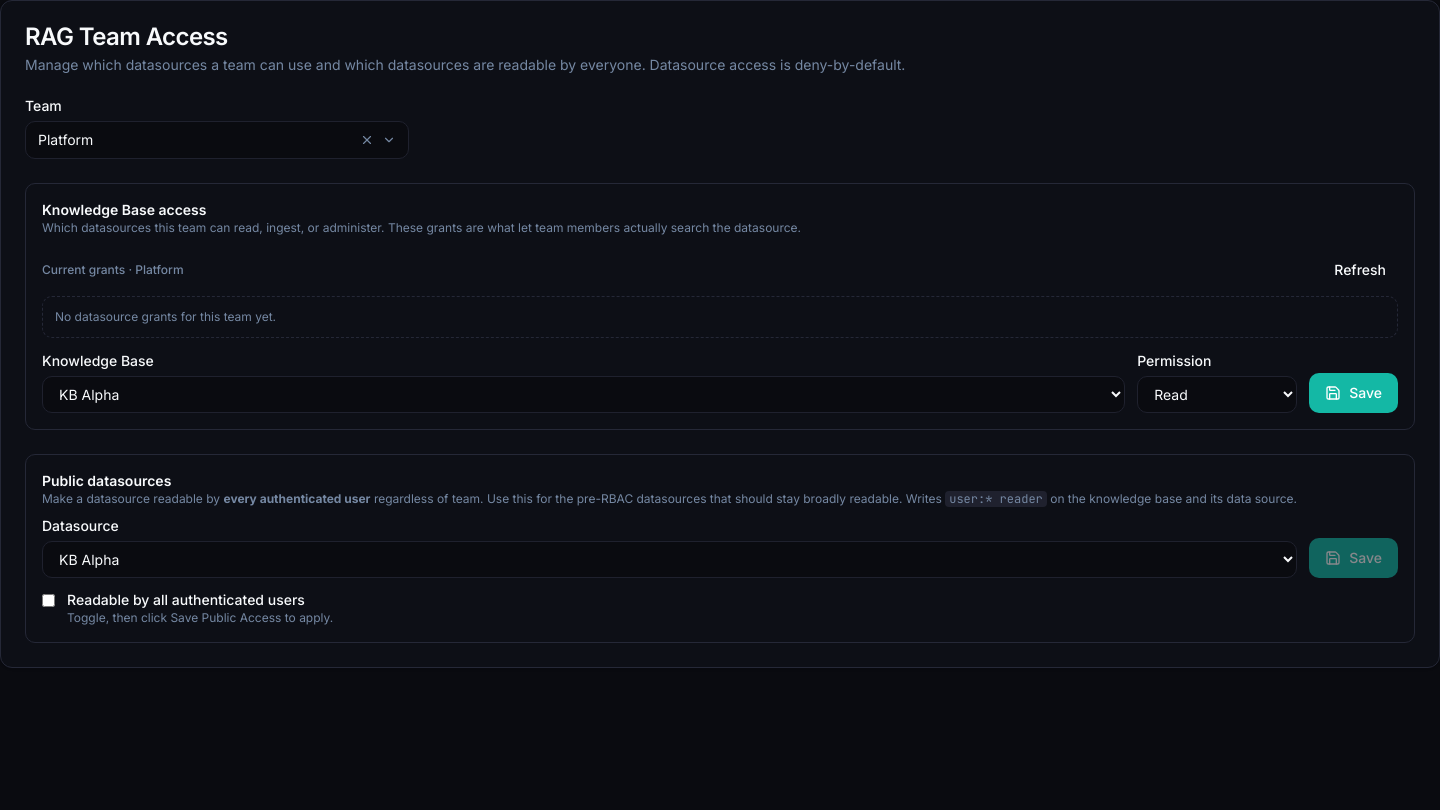
Test case: grants a selected knowledge base to the selected team
Expected: the text "RAG Team Access" is shown, [25, 22, 228, 51]
Select "KB Alpha" in the dropdown labelled "Knowledge Base" at (584, 394), box [42, 376, 1125, 413]
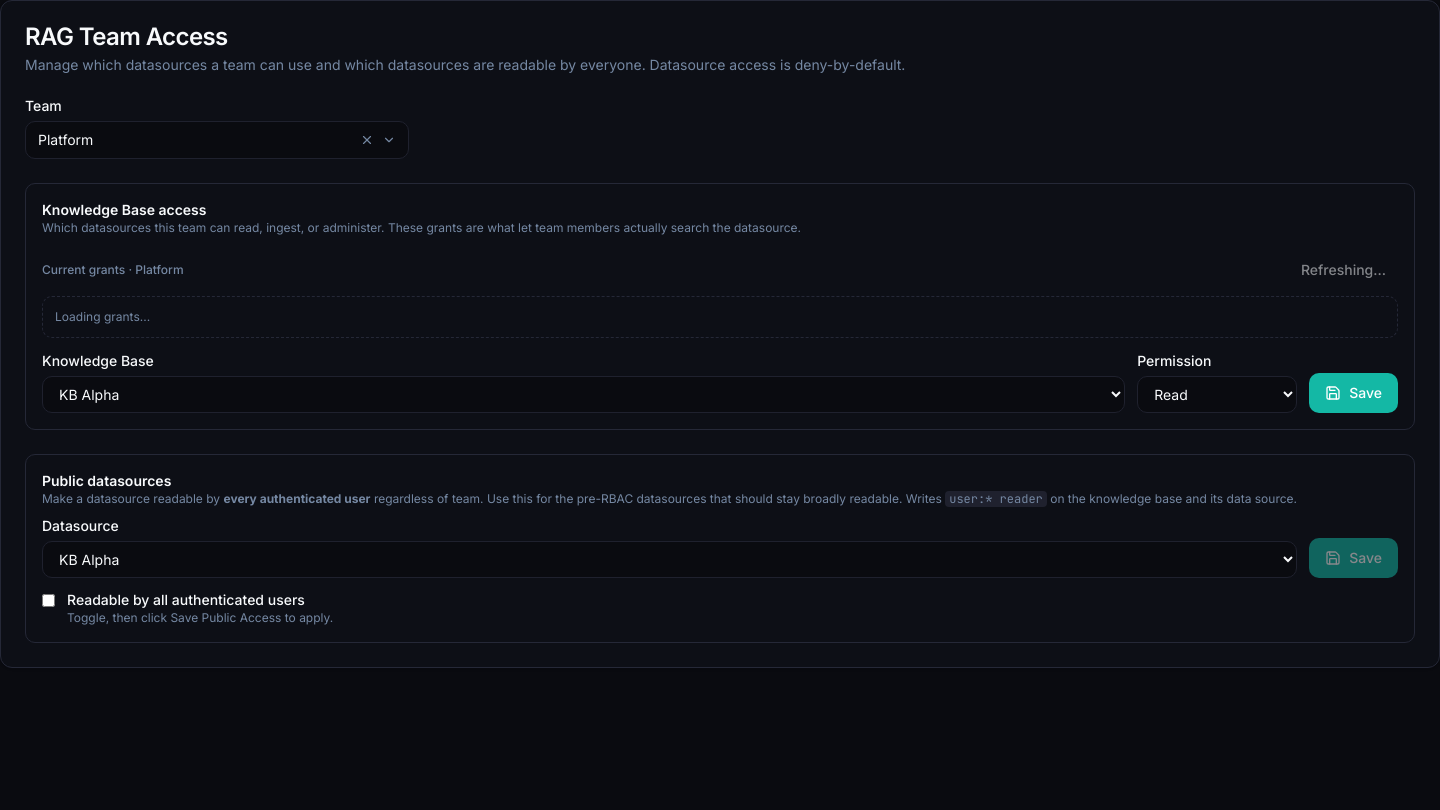
Select "Admin" in the dropdown labelled "Permission" at (1217, 394), box [1137, 376, 1297, 413]
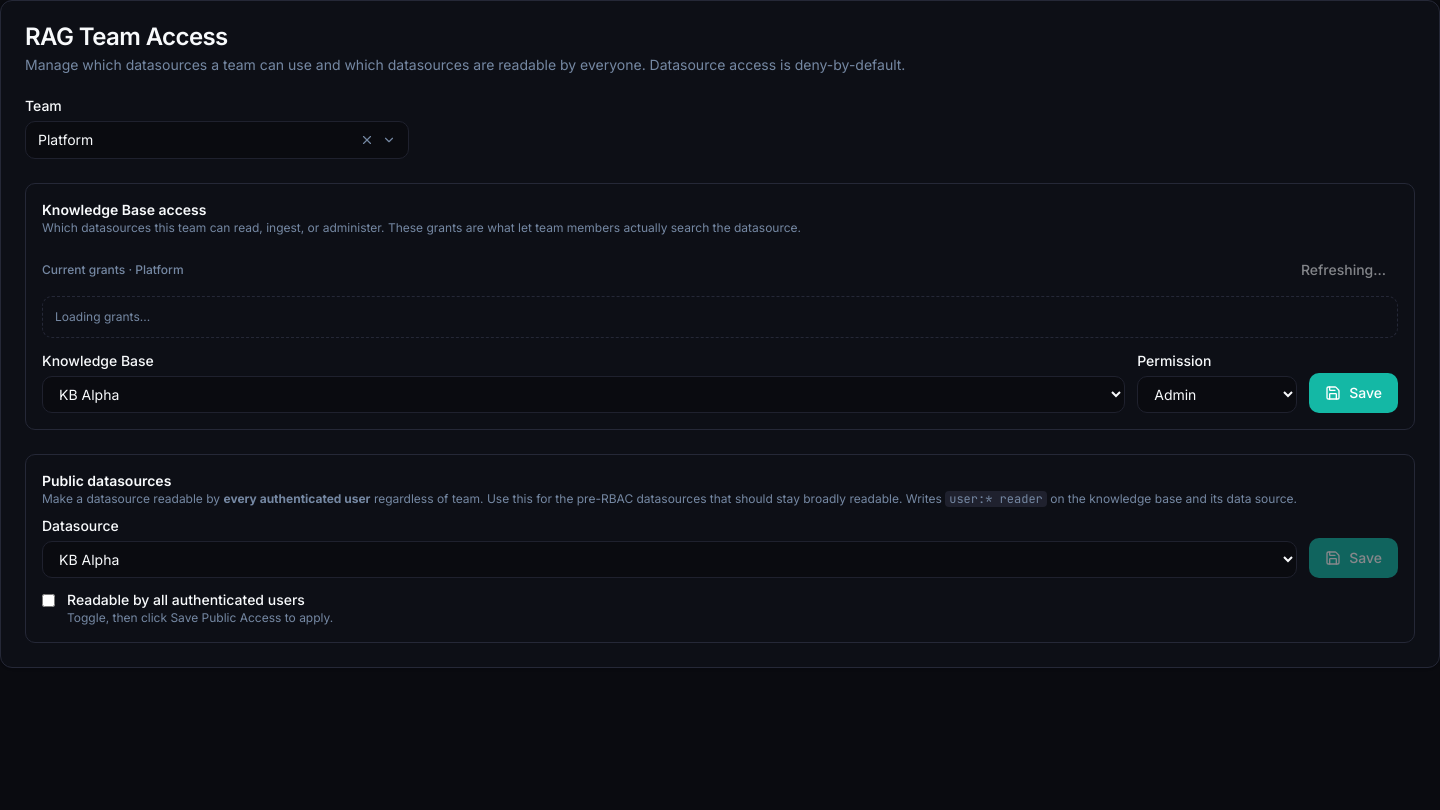
Click the button with aria-label "Grant KB Access" at (1354, 393), box [1309, 373, 1398, 413]
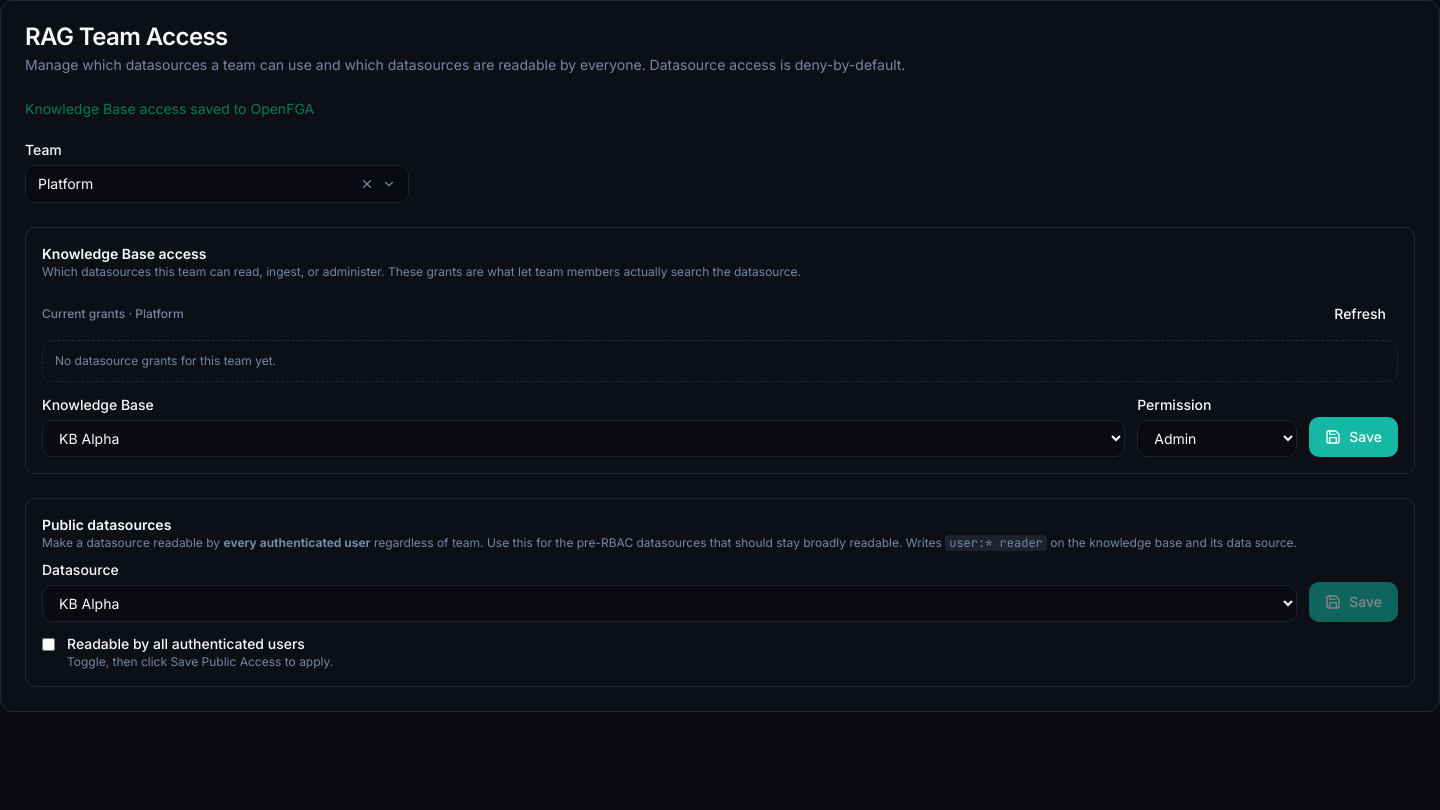
Expected: the text "Knowledge Base access saved to OpenFGA" is shown, [25, 100, 314, 117]
